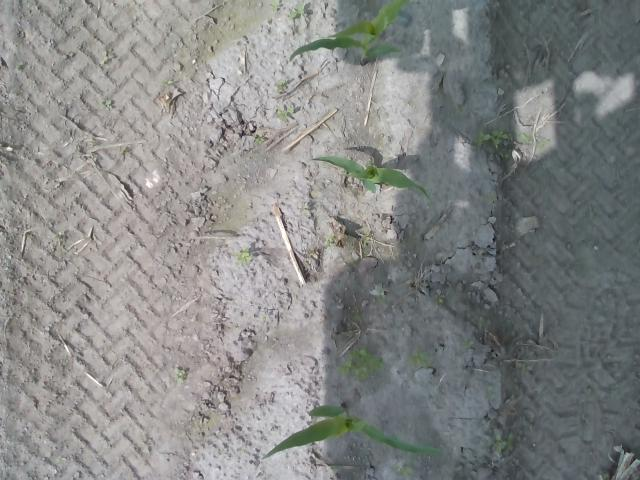Maize: (260, 401, 442, 461), (286, 0, 411, 66), (308, 156, 432, 202)
Weeds: (338, 345, 386, 383), (474, 129, 550, 150), (492, 432, 512, 455), (407, 350, 431, 368), (396, 464, 416, 480), (274, 106, 294, 120), (173, 368, 187, 385), (289, 5, 306, 19), (160, 77, 176, 90), (236, 251, 253, 262), (476, 315, 490, 328), (434, 289, 446, 304), (276, 79, 288, 93), (100, 50, 108, 64), (255, 136, 267, 145), (105, 100, 114, 112), (463, 338, 473, 347), (326, 236, 334, 246)
